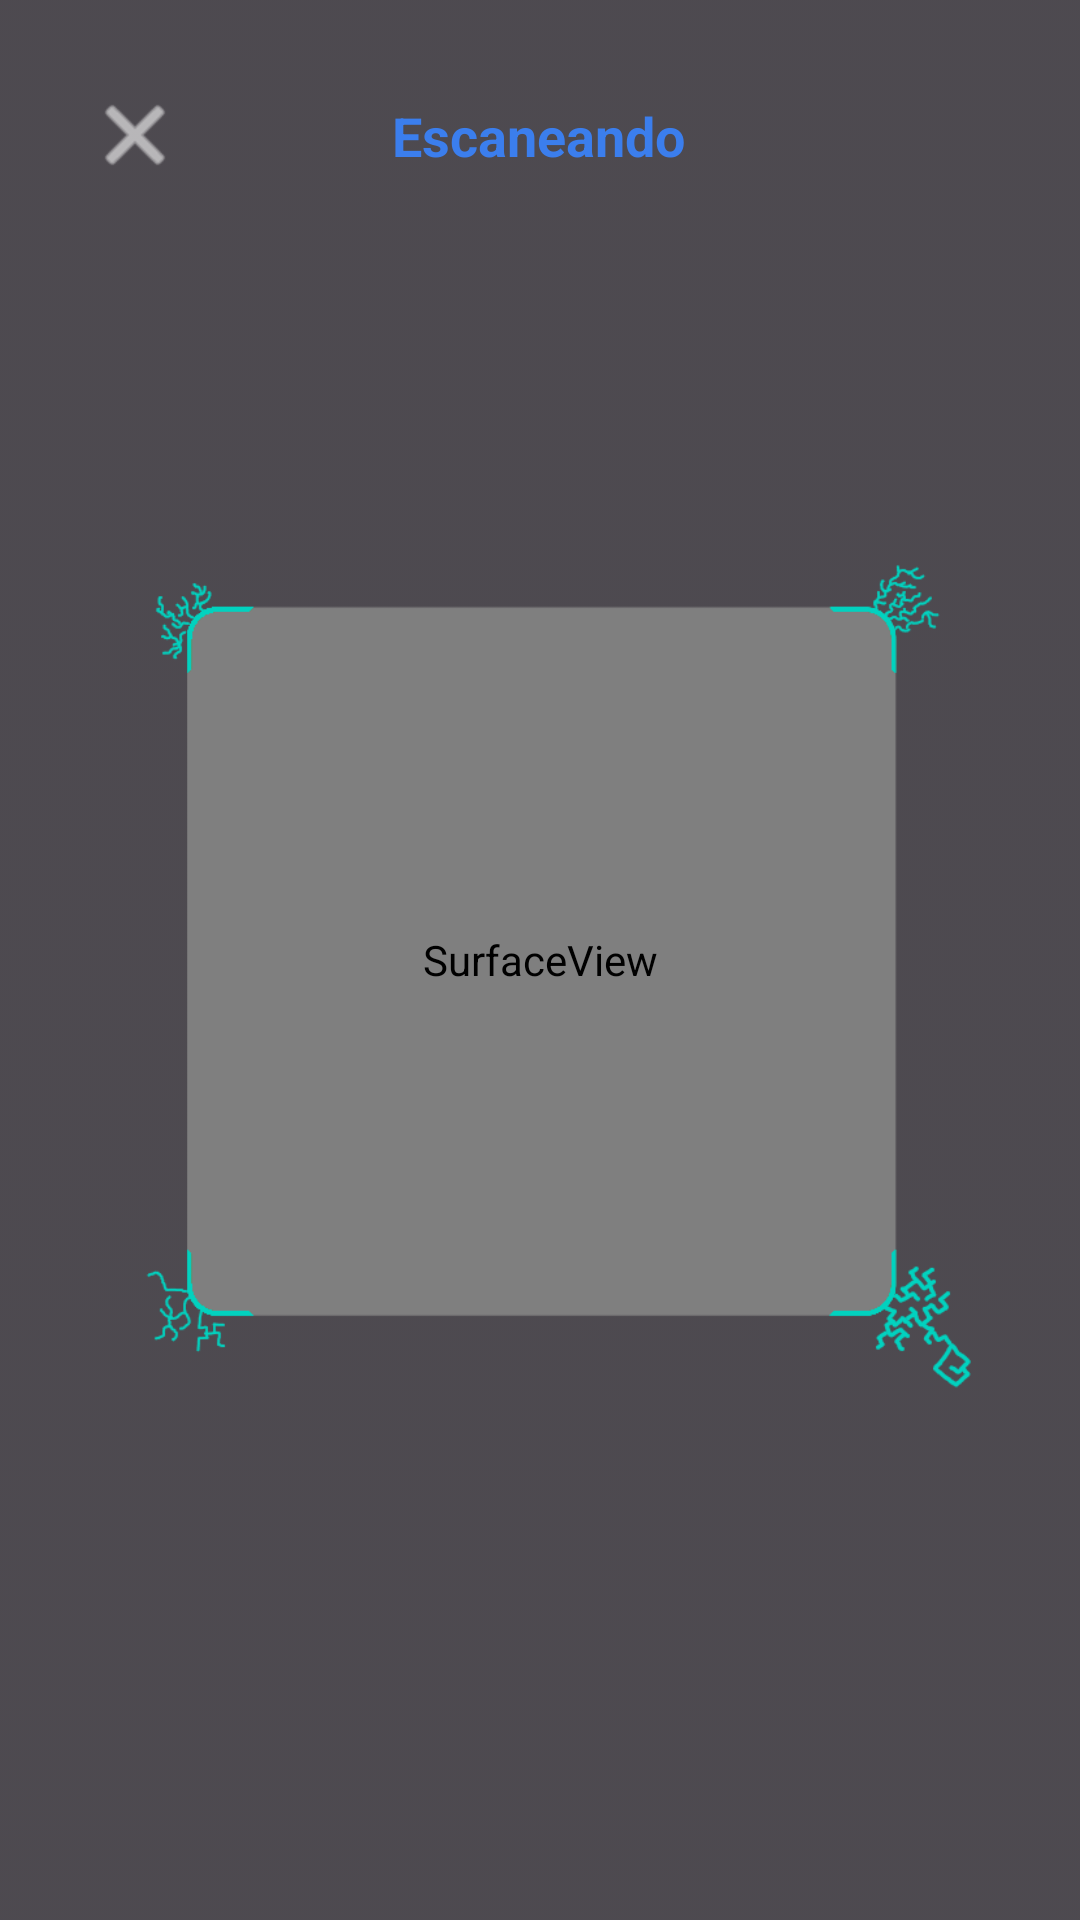

Icon click points for this 1080 × 1920 phone screenshot, format (x,y):
close clear cancel: (135,135)
